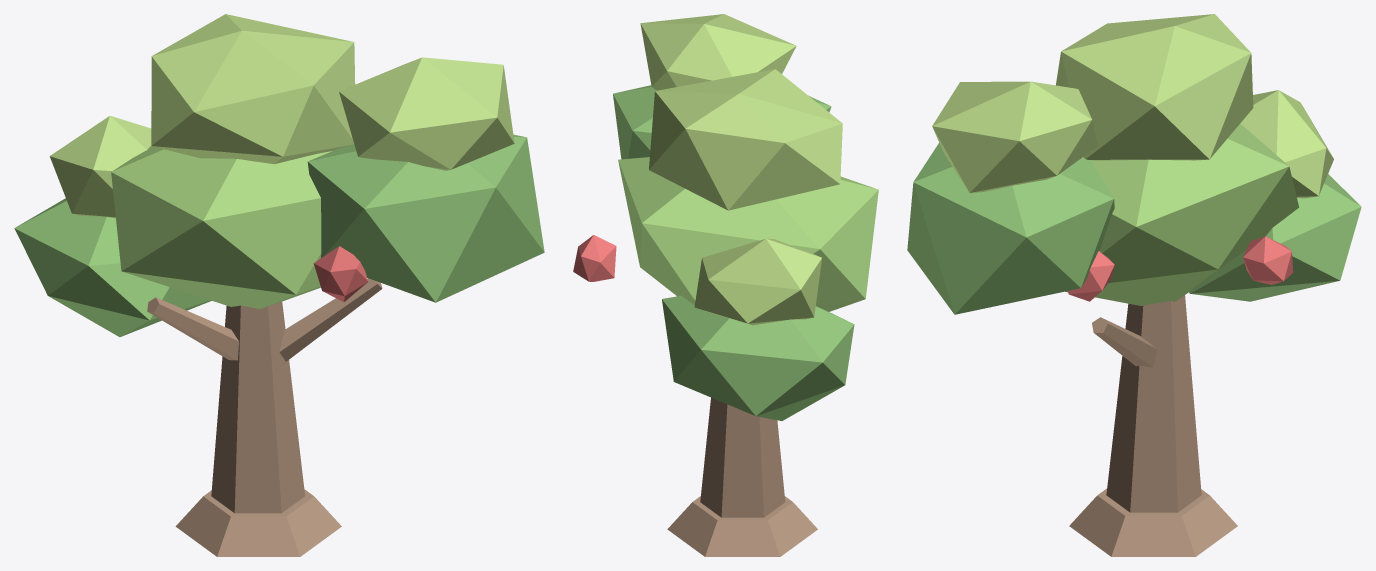
Rendered from PG_Tree_Orchard_A.fbx.
The picture shows the model from 3 angles, left to right: view 1: azimuth 30°, elevation 25°; view 2: azimuth 150°, elevation 25°; view 3: azimuth 270°, elevation 25°; orthographic projection. The views are drawn at different scales.
Parts seen in each view (by area): view 1: PG_Tree_Orchard_A; view 2: PG_Tree_Orchard_A; view 3: PG_Tree_Orchard_A.
Boxes of the visible parts, <box> form: PG_Tree_Orchard_A: <box>14,14,544,556</box>; PG_Tree_Orchard_A: <box>573,14,878,556</box>; PG_Tree_Orchard_A: <box>907,14,1361,556</box>.
Size of the model in its own units: 2.17 by 2.73 by 2.26.
